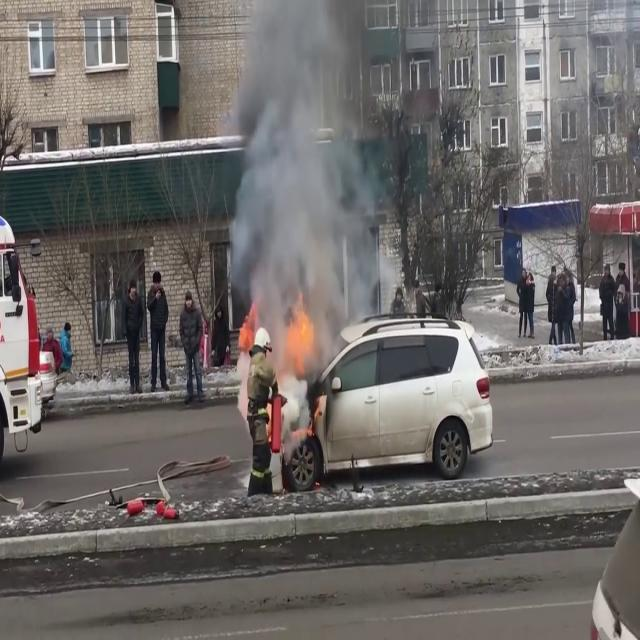Fire: (286, 298, 316, 368), (237, 306, 260, 355)
Smoke: (224, 1, 392, 347)
